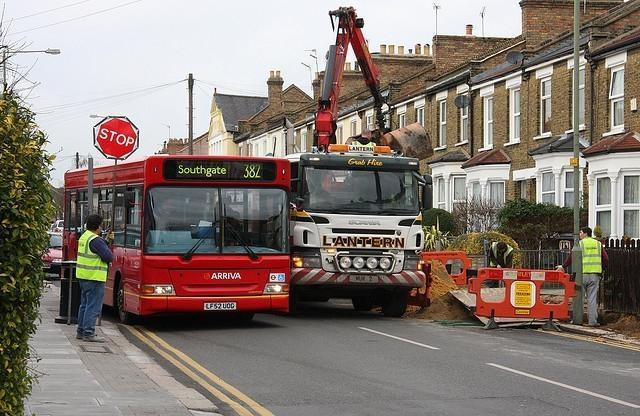bus: (63, 155, 290, 332)
car: (42, 232, 64, 278)
truck: (282, 139, 434, 318)
